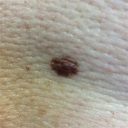Melanoma: (50, 55, 80, 78)
